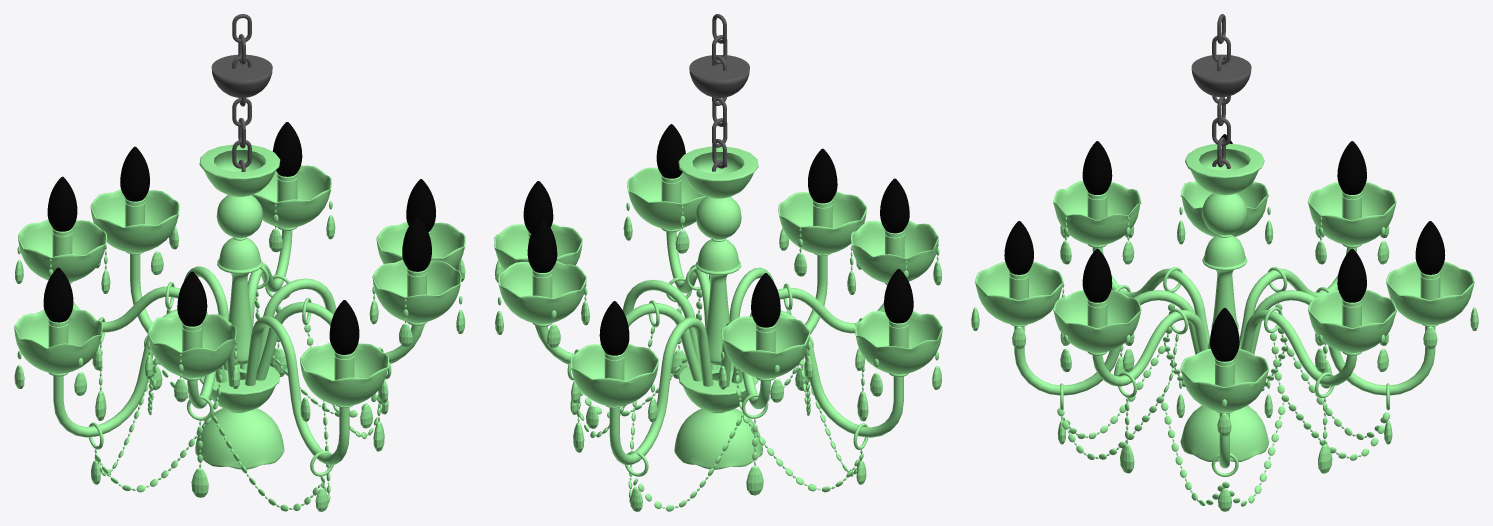
File: shuijindeng.FBX
The picture shows the model from 3 angles, left to right: view 1: azimuth 30°, elevation 25°; view 2: azimuth 150°, elevation 25°; view 3: azimuth 270°, elevation 25°; orthographic projection.
Visible parts, largest first — view 1: obj_1044, obj_1068, obj_1049, obj_1041, obj_1072, obj_1064, obj_1080, obj_1056, obj_1042, obj_1076, obj_1047, obj_1059 (+26 smaller); view 2: obj_1044, obj_1049, obj_1064, obj_1076, obj_1080, obj_1041, obj_1068, obj_1062, obj_1042, obj_1072, obj_1047, obj_1059 (+24 smaller); view 3: obj_1068, obj_1041, obj_1076, obj_1064, obj_1080, obj_1059, obj_1072, obj_1044, obj_1042, obj_1056, obj_1062, obj_1047 (+15 smaller).
Boxes of the visible parts, left/top/right/bottom form: obj_1044: left=195, top=408, right=284, bottom=469; obj_1068: left=148, top=313, right=236, bottom=380; obj_1049: left=14, top=309, right=102, bottom=376; obj_1041: left=300, top=342, right=388, bottom=407; obj_1072: left=372, top=260, right=461, bottom=325; obj_1064: left=90, top=189, right=179, bottom=254; obj_1080: left=18, top=219, right=106, bottom=283; obj_1056: left=245, top=316, right=349, bottom=464; obj_1042: left=199, top=144, right=280, bottom=196; obj_1076: left=252, top=165, right=331, bottom=230; obj_1047: left=217, top=237, right=262, bottom=364; obj_1059: left=376, top=222, right=465, bottom=268; obj_1044: left=674, top=408, right=762, bottom=469; obj_1049: left=855, top=310, right=942, bottom=376; obj_1064: left=570, top=343, right=658, bottom=408; obj_1076: left=498, top=261, right=586, bottom=326; obj_1080: left=721, top=315, right=809, bottom=381; obj_1041: left=778, top=191, right=866, bottom=255; obj_1068: left=851, top=220, right=938, bottom=284; obj_1062: left=609, top=317, right=713, bottom=464; obj_1042: left=678, top=146, right=758, bottom=198; obj_1072: left=627, top=167, right=706, bottom=232; obj_1047: left=696, top=238, right=741, bottom=364; obj_1059: left=494, top=223, right=582, bottom=269; obj_1068: left=1053, top=180, right=1141, bottom=247; obj_1041: left=974, top=262, right=1063, bottom=326; obj_1076: left=1308, top=290, right=1396, bottom=355; obj_1064: left=1386, top=262, right=1474, bottom=326; obj_1080: left=1307, top=182, right=1396, bottom=247; obj_1059: left=1180, top=349, right=1269, bottom=413; obj_1072: left=1053, top=290, right=1141, bottom=355; obj_1044: left=1180, top=405, right=1269, bottom=461; obj_1042: left=1185, top=143, right=1264, bottom=195; obj_1056: left=1014, top=290, right=1198, bottom=395; obj_1062: left=1250, top=290, right=1435, bottom=395; obj_1047: left=1202, top=234, right=1247, bottom=348.
Size of the model in its own units: 1235 by 1169 by 1235.
